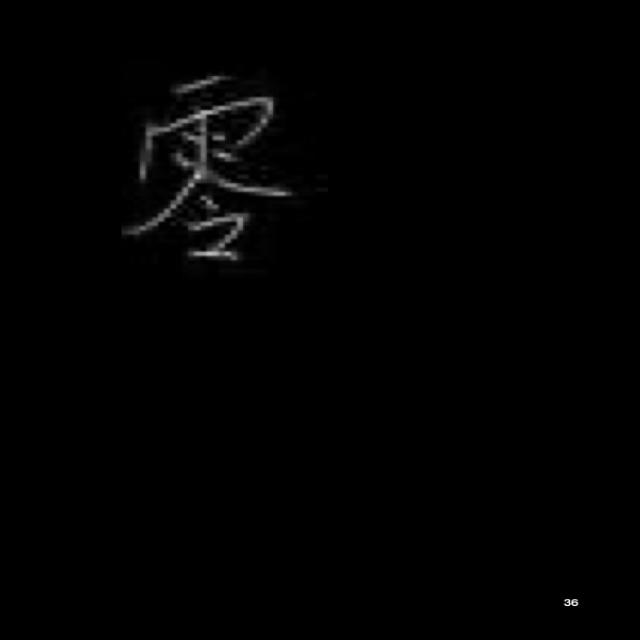0 -zero-: (110, 66, 300, 273)
